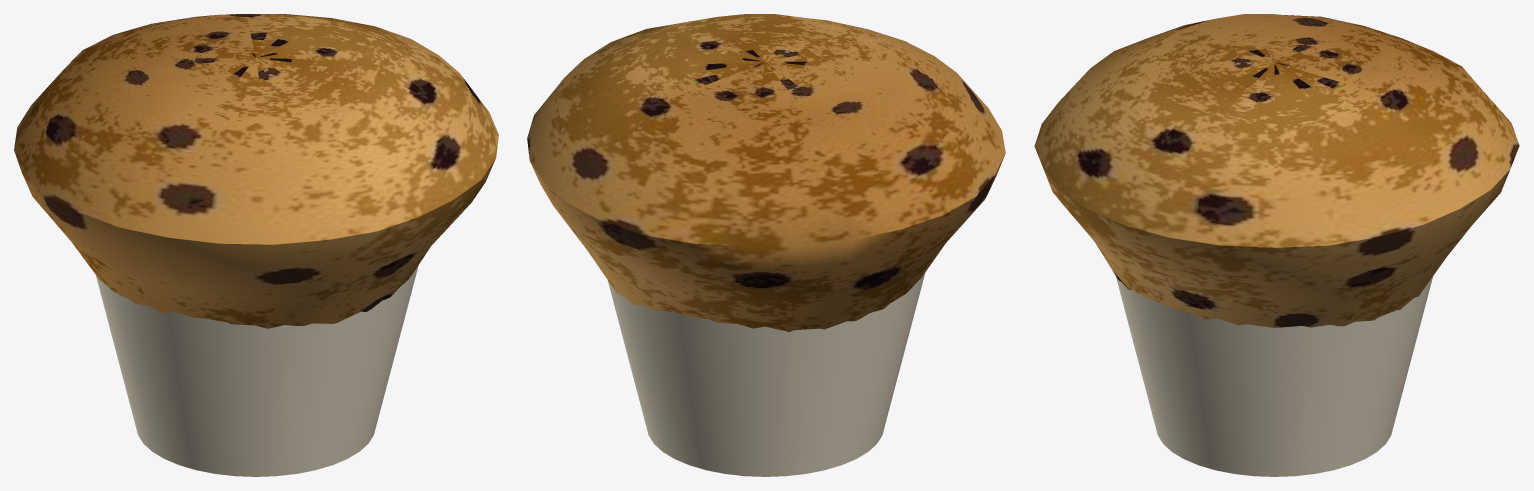
Rendered from bakery_muffin_choc_chip.glb.
3 renders of one model, left to right at view 1: azimuth 30°, elevation 25°; view 2: azimuth 150°, elevation 25°; view 3: azimuth 270°, elevation 25°, orthographic.
Parts seen in each view (by area): view 1: bakery_muffin_choc_chip; view 2: bakery_muffin_choc_chip; view 3: bakery_muffin_choc_chip.
Part boxes in pixels (box(x1,y1,x2,y2)): bakery_muffin_choc_chip: box(14, 14, 498, 476); bakery_muffin_choc_chip: box(527, 14, 1005, 476); bakery_muffin_choc_chip: box(1034, 14, 1519, 476).
Size of the model in its own units: 0.1061 by 0.0882 by 0.1065.
Materials: 2 (1 with a texture image).
